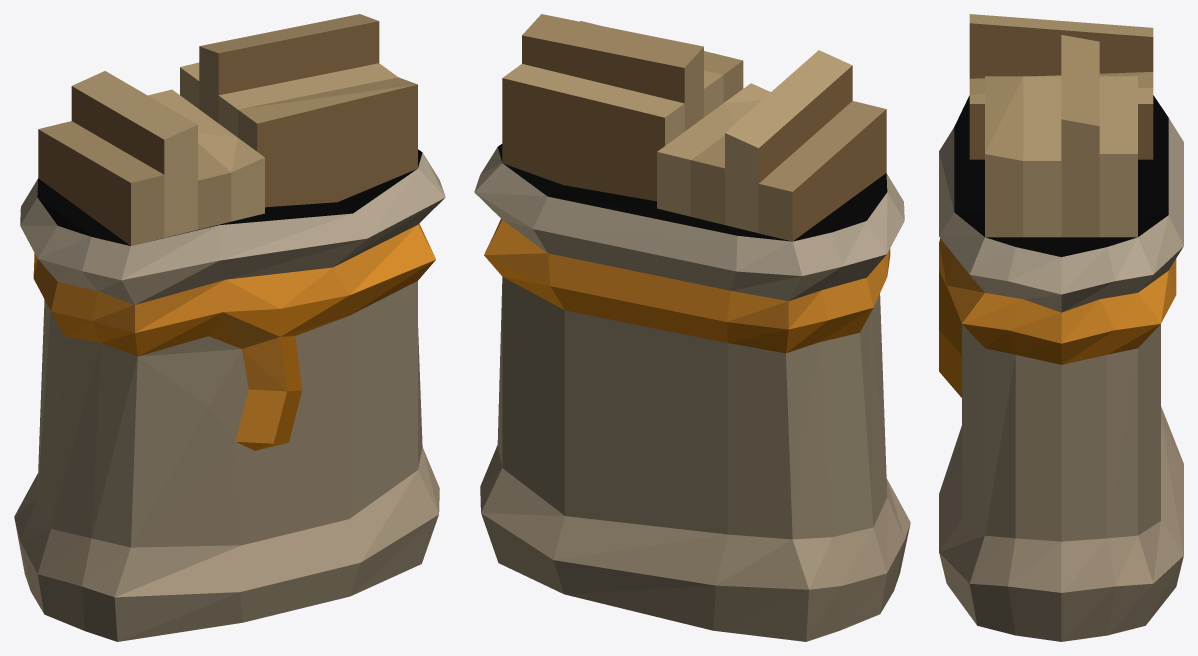
Rendered from plank-sack.gltf.
3 views of the same model, side by side, from view 1: azimuth 30°, elevation 25°; view 2: azimuth 150°, elevation 25°; view 3: azimuth 270°, elevation 25° (orthographic). The views are drawn at different scales.
Bounding box in the file's own units: 58 × 74 × 32.
Materials: 2 (2 with a texture image).
